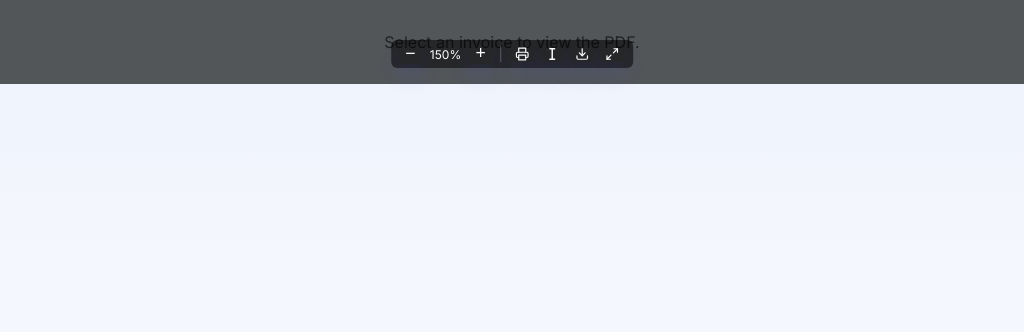
Test: PdfViewer › increases zoom when zoom in is clicked
The width and height of the screenshot is (1024, 332).
What coordinates should you click on to do the following:
click the button titled "Zoom in"
I would click on:
 (481, 54)
Its box is [470,44,492,64].
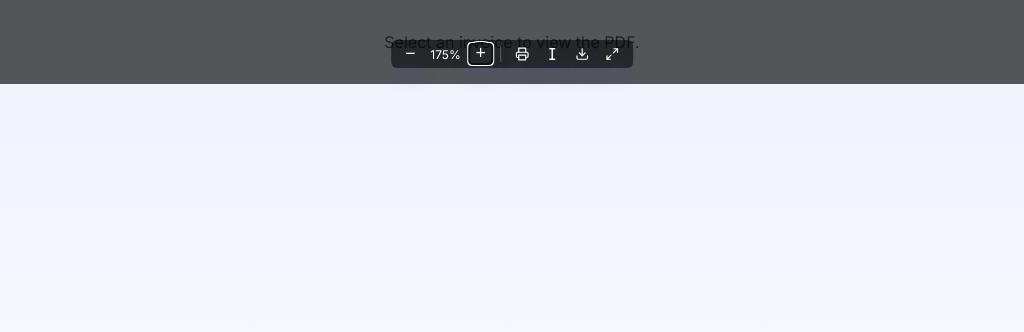
Expected: the text "175%" is shown, [430,47,461,62]
